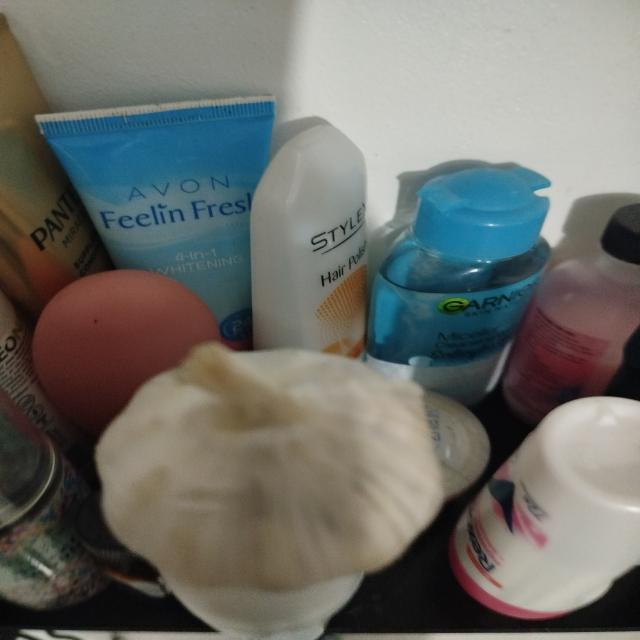garlic: (36, 320, 482, 606)
